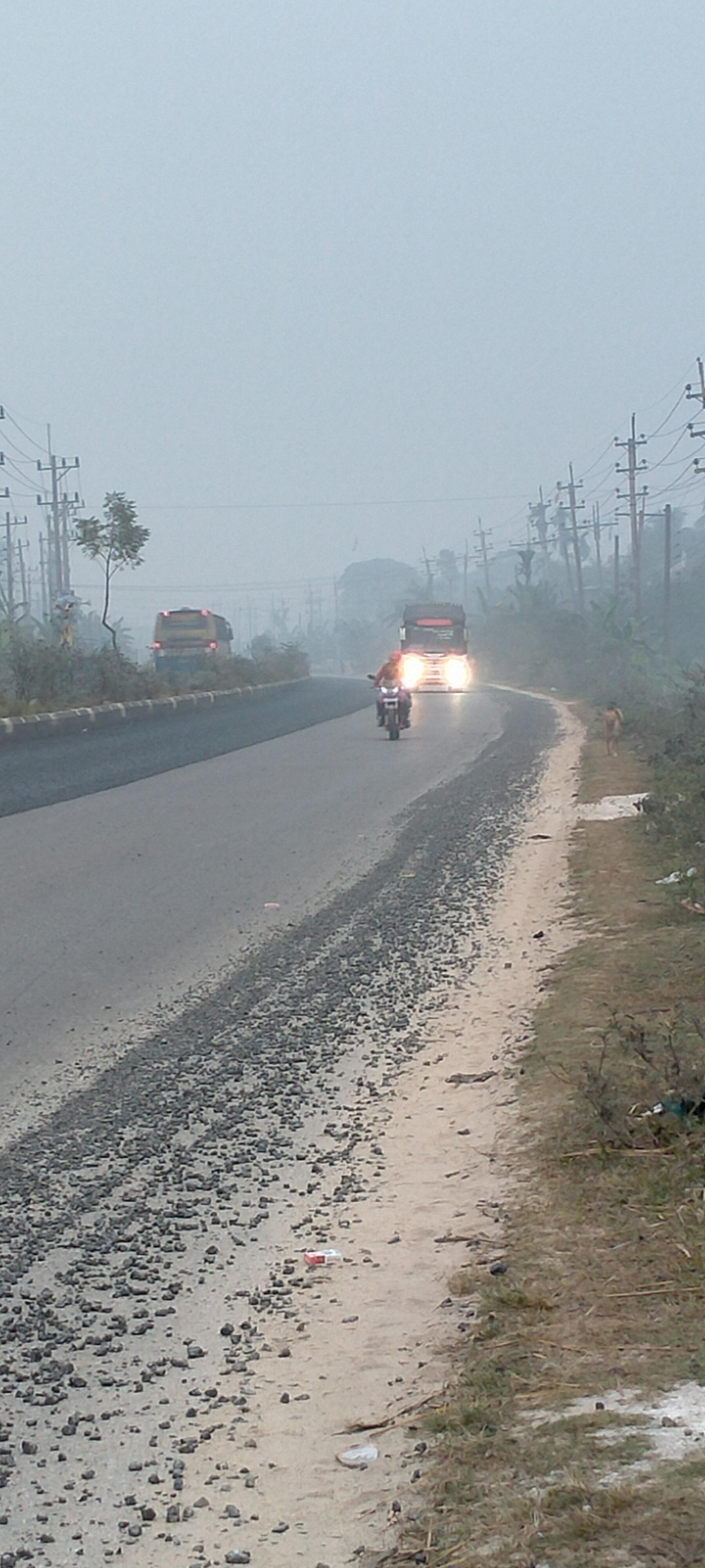Bike: (367, 652, 414, 750)
Bus: (398, 591, 491, 712), (140, 598, 237, 692)
